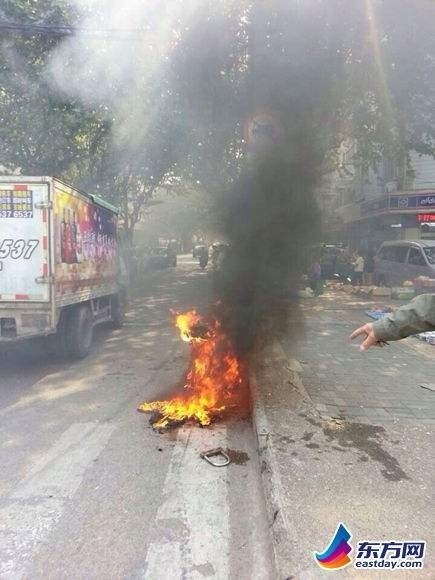fire: (139, 307, 243, 428)
